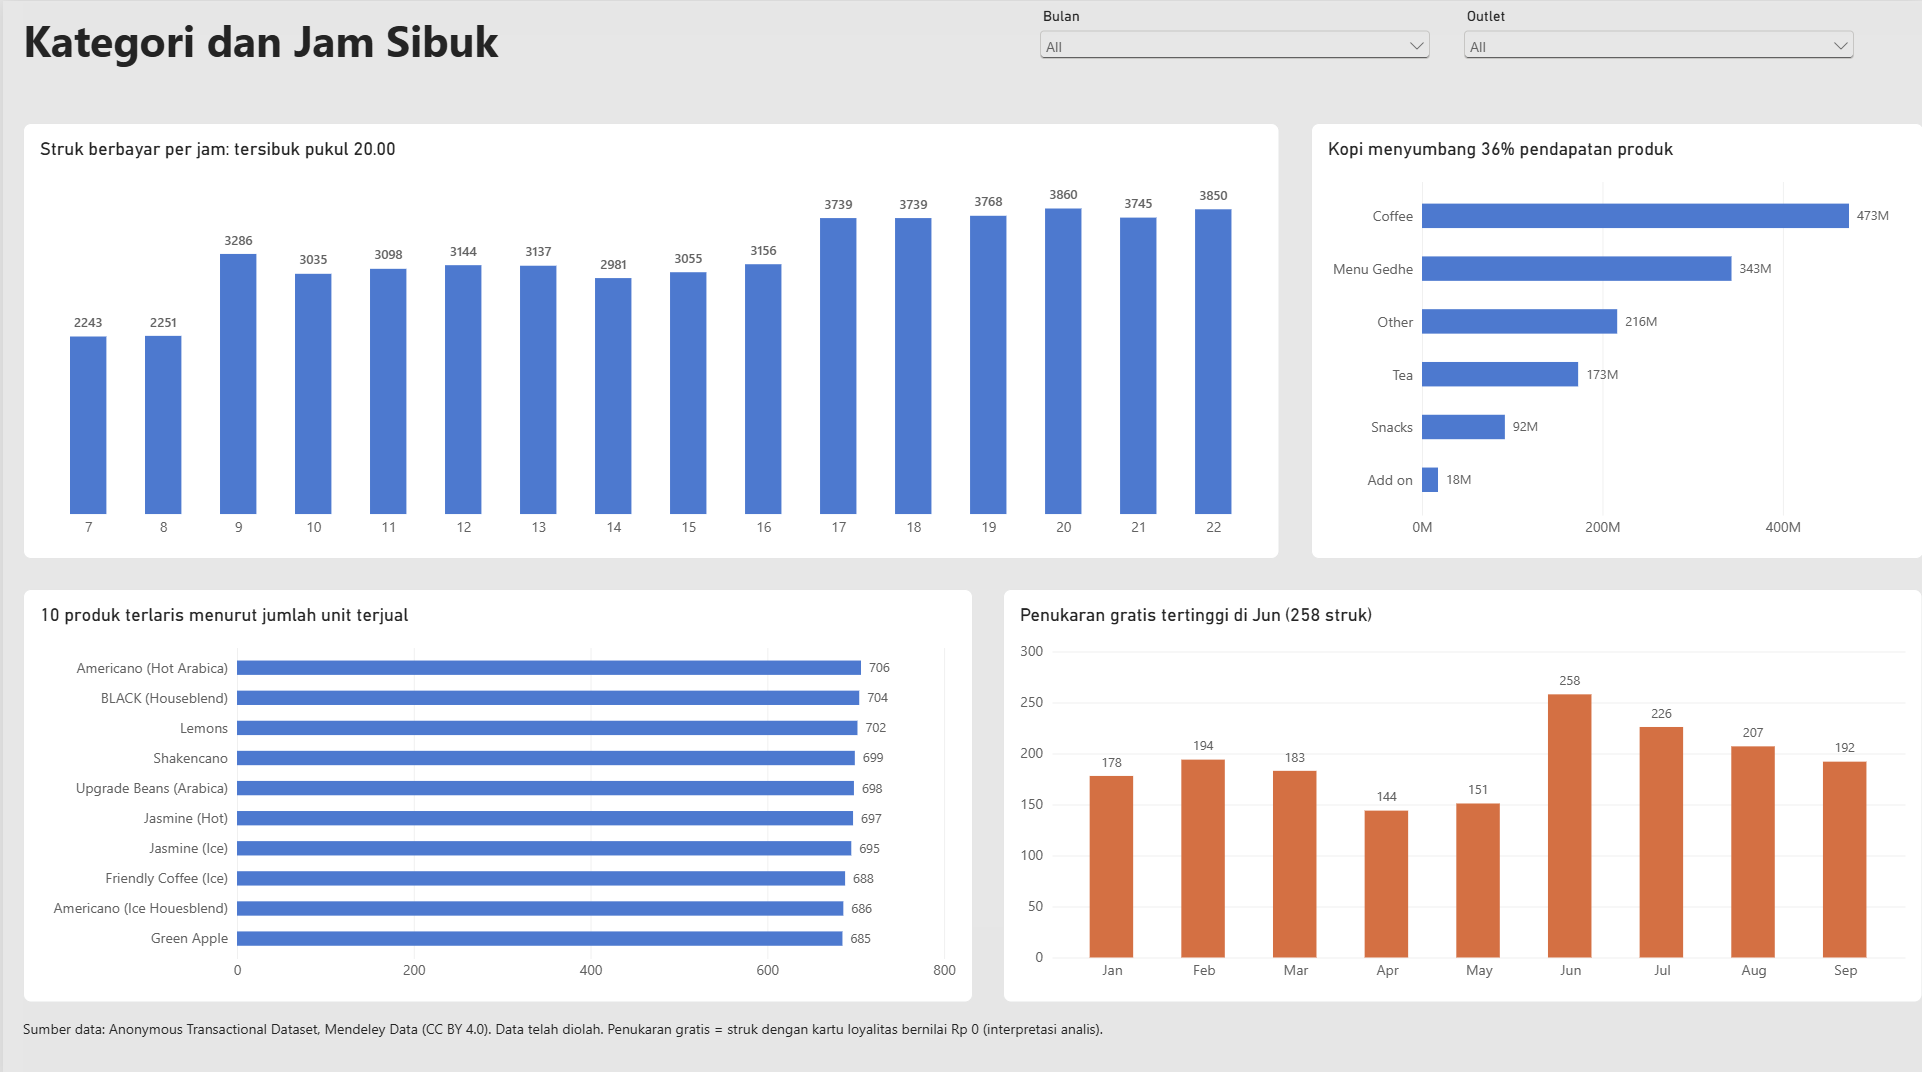

Layout of this report page (visuals, bound fields, positions):
{"tool":"powerbi","page":{"name":"Kategori dan jam sibuk","canvas":[1920,1080],"ordinal":1},"visuals":[{"type":"textbox","box":[19.8,9.9,1164.6,90.2],"z":0,"group":"g1"},{"type":"slicer","fields":{"Values":["transactions_clean.Bulan"]},"box":[1031.1,6.9,400,69.3],"z":1000},{"type":"clusteredColumnChart","fields":{"Category":["transactions_clean.Bulan"],"Y":["line_items.Penukaran Gratis Formula"]},"box":[1000.5,588.8,919.4,413.5],"z":1000,"group":"g1"},{"type":"slicer","fields":{"Values":["transactions_clean.Outlet"]},"box":[1456.1,6.9,400,69.3],"z":2000},{"type":"clusteredColumnChart","fields":{"Category":["transactions_clean.Hour"],"Y":["line_items.Struk Berbayar Formula"]},"box":[19.8,122.7,1256.6,436.1],"z":4000,"group":"g1"},{"type":"clusteredBarChart","fields":{"Category":["products_clean.Category"],"Y":["line_items.Pendapatan Produk"]},"box":[1307,122.7,613,436.1],"z":5000,"group":"g1"},{"type":"clusteredBarChart","title":"10 produk terlaris menurut jumlah unit terjual","fields":{"Category":["products_clean.Item"],"Y":["line_items.Produk Terjual"]},"box":[19.8,588.8,950.1,413.5],"z":6000,"group":"g1"},{"type":"textbox","box":[19.8,1017.3,1642.7,62.5],"z":7000,"group":"g1"},{"type":"group","id":"g1","title":"Group 1","box":[19.8,9.9,1900.2,1070],"z":7001}]}

Visuals, with their boxes in screenshot pixels (x1, y1, x2, y2), scaled from the page's 1920x1080 canvas onto the 1922x1072 screenshot:
textbox: box=[20, 10, 1186, 99]
slicer - transactions_clean.Bulan: box=[1032, 7, 1433, 76]
clusteredColumnChart - transactions_clean.Bulan x line_items.Penukaran Gratis Formula: box=[1002, 584, 1921, 995]
slicer - transactions_clean.Outlet: box=[1458, 7, 1858, 76]
clusteredColumnChart - transactions_clean.Hour x line_items.Struk Berbayar Formula: box=[20, 122, 1278, 555]
clusteredBarChart - products_clean.Category x line_items.Pendapatan Produk: box=[1308, 122, 1921, 555]
"10 produk terlaris menurut jumlah unit terjual" clusteredBarChart: box=[20, 584, 971, 995]
textbox: box=[20, 1010, 1664, 1071]
"Group 1" group: box=[20, 10, 1921, 1071]
